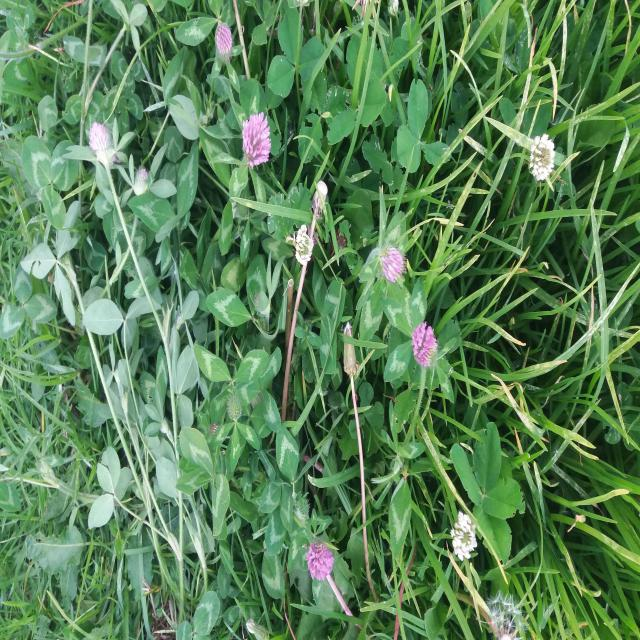Four Leaf Clover: (450, 422, 527, 568)
